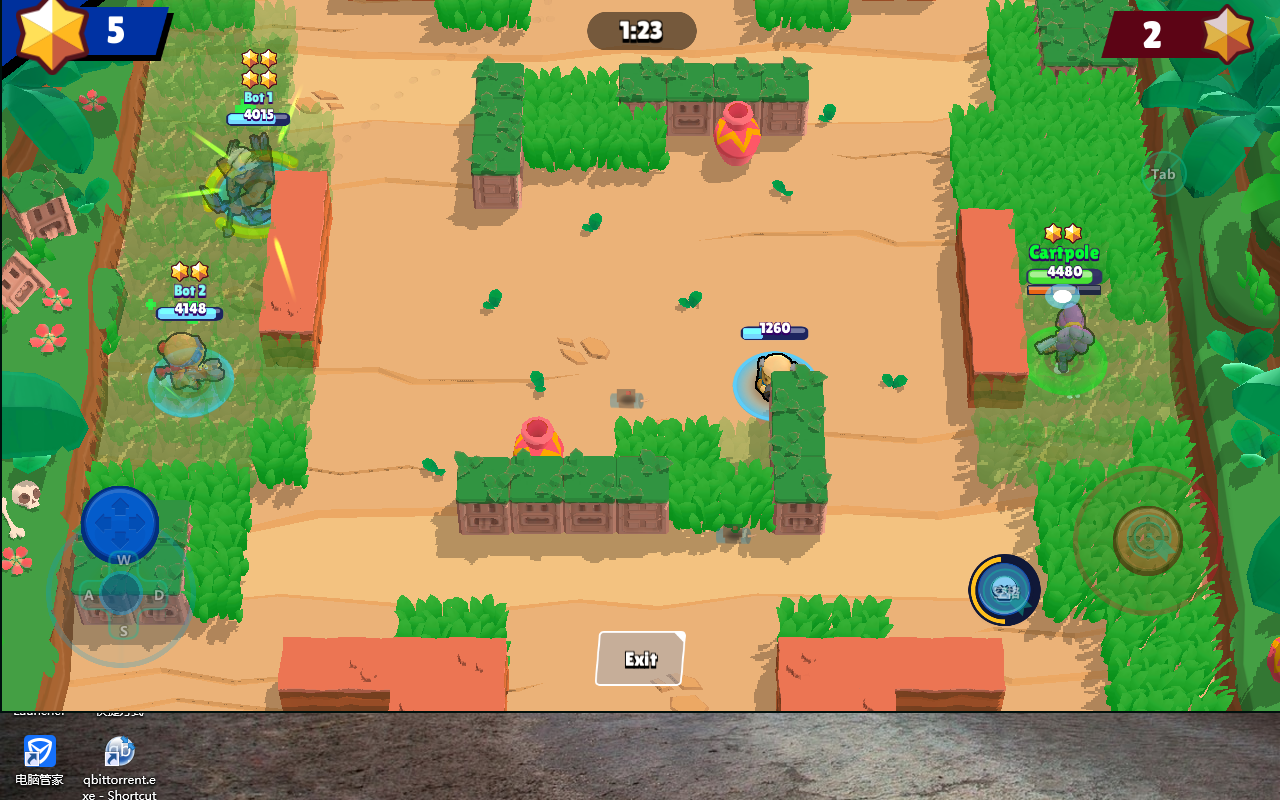current_player: (1023, 328, 1108, 399)
